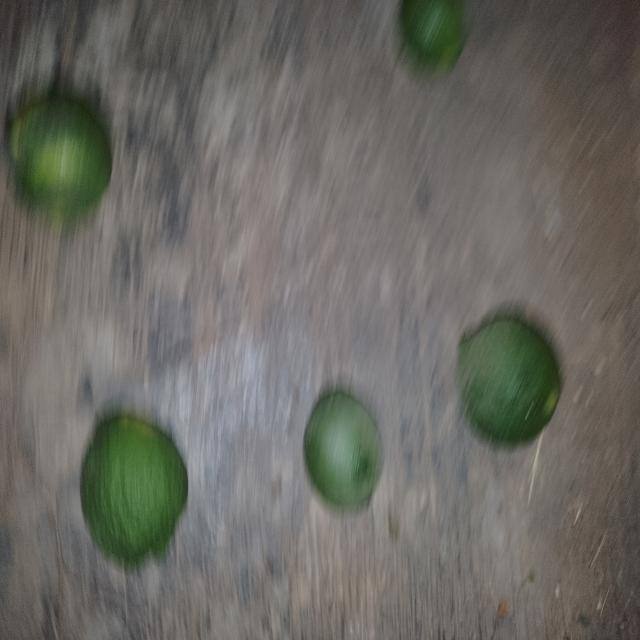Unripe: (450, 295, 576, 470), (72, 398, 196, 572), (11, 82, 118, 244), (303, 376, 400, 528)
